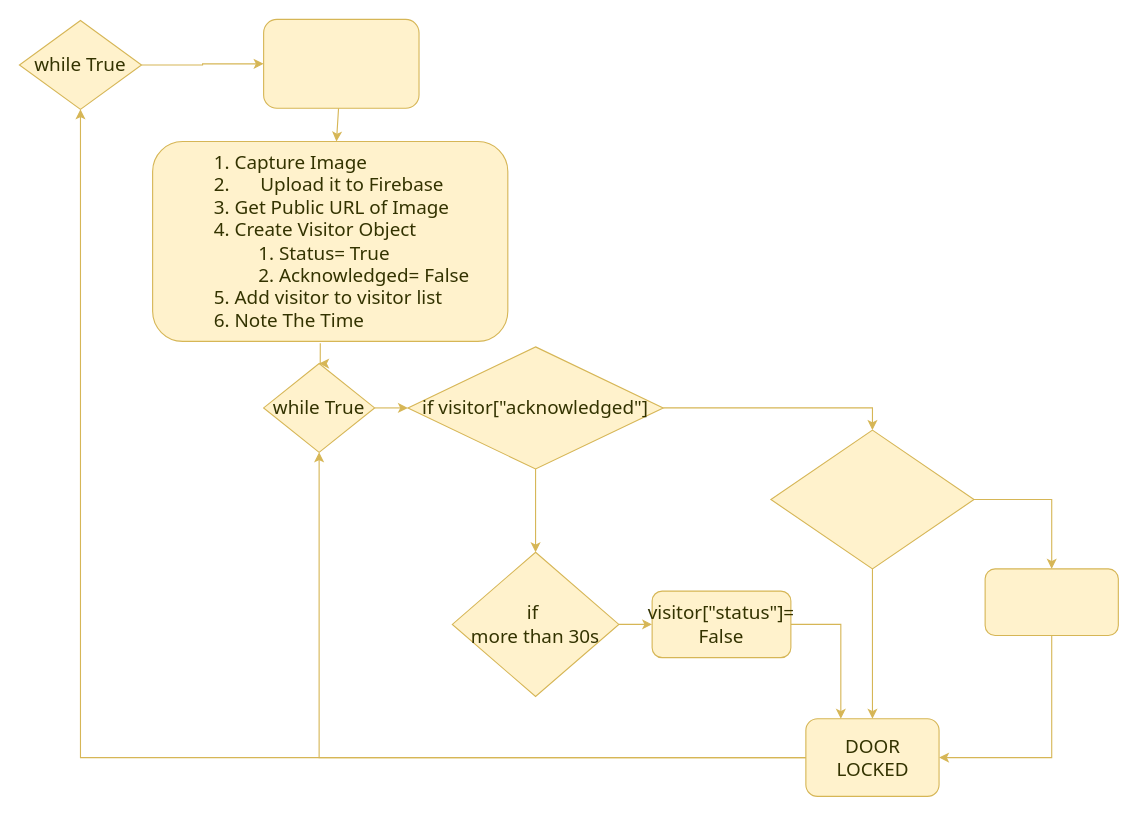
Image size: 1138x816. Some labels were removed from this diagram. The box of each missing label's shape, as (x1, y1, x2, y2) in pixels:
if visitor["ackStatus "]: (770, 429, 974, 569)
OPEN THE DOOR WAIT(5): (984, 568, 1118, 635)
Wait for BUTTON PRESS: (263, 18, 419, 108)
